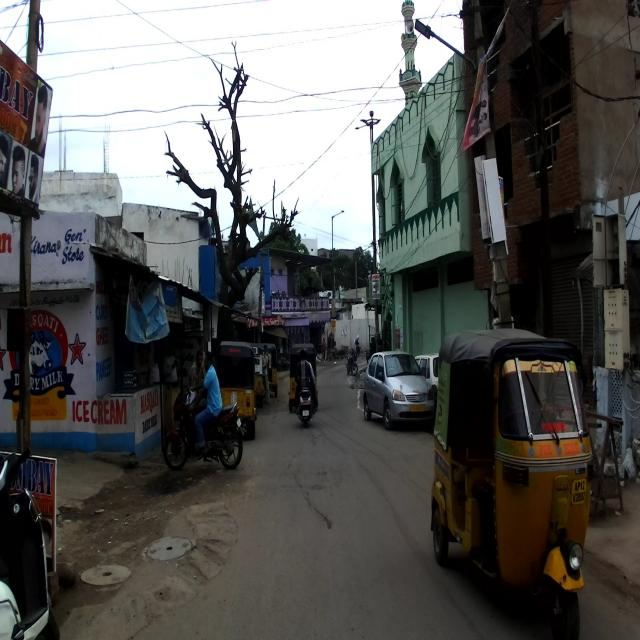Car_TATA: (362, 350, 434, 430)
autorickshaw: (429, 327, 592, 638)
motorcycle_bajaj: (163, 370, 243, 470)
scooter: (0, 445, 62, 639)
